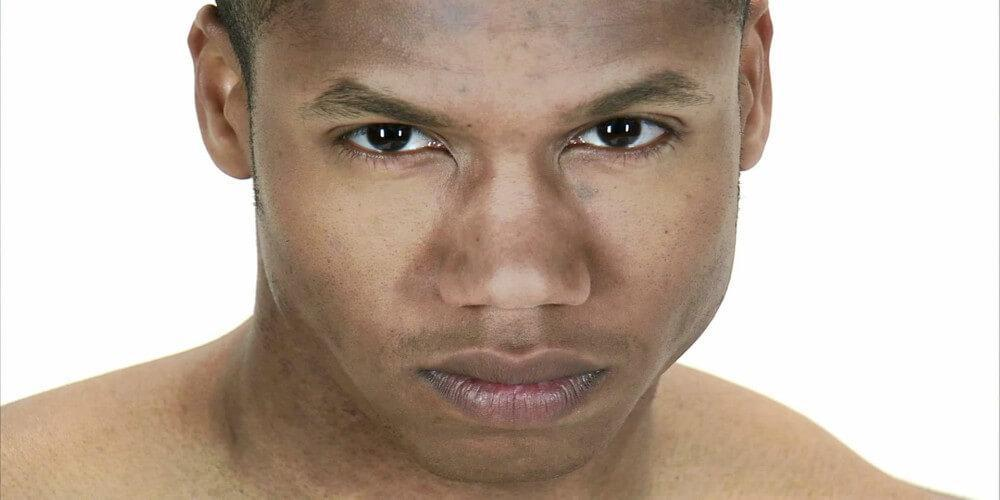Sober: (258, 0, 717, 450)
